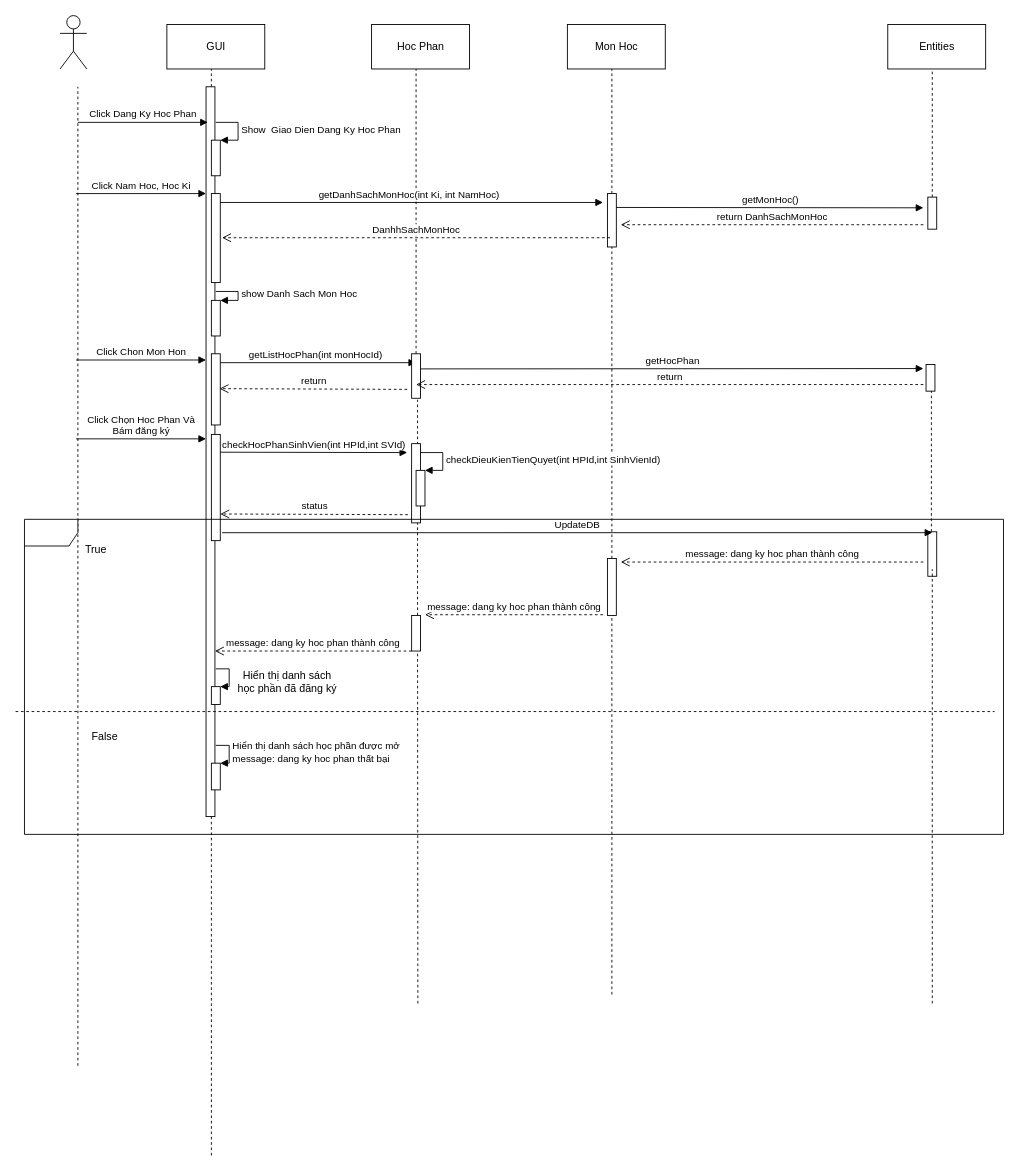
This 1019x1172 diagram has some shape labels left out. The box of each missing label's shape, as (x1, y1, x2, y2) in pixels:
frame: (24, 518, 1003, 834)
SinhVien: (59, 15, 87, 69)
